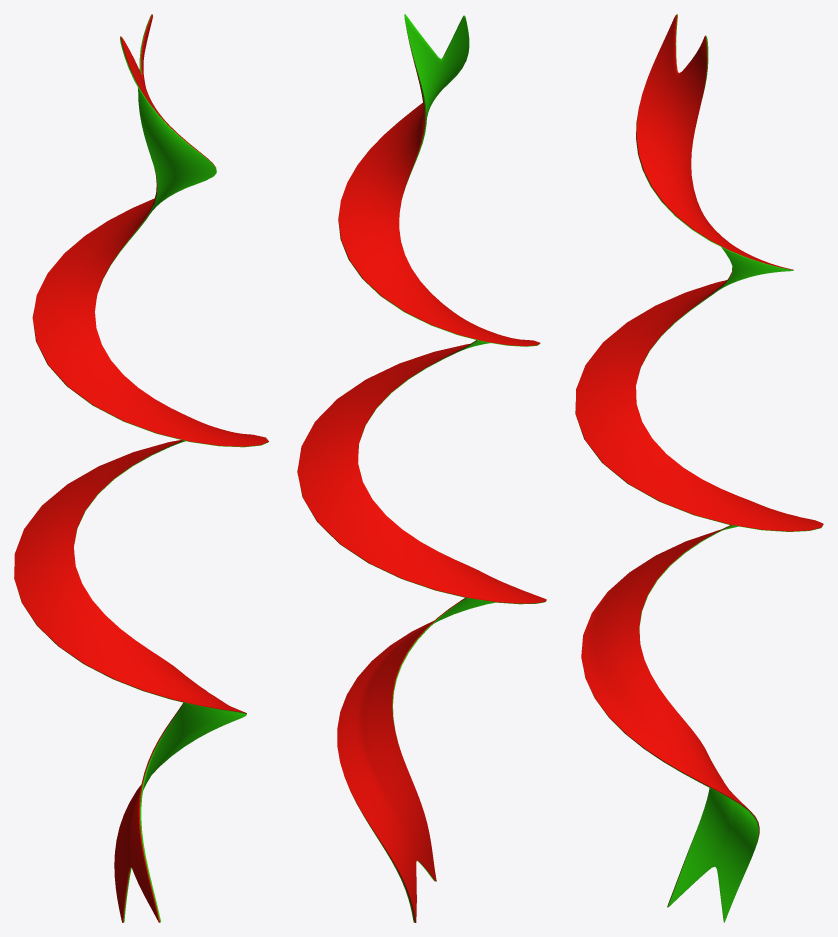
The model's file is Ribbon_Idle.gltf.
The picture shows the model from 3 angles, left to right: view 1: azimuth 30°, elevation 25°; view 2: azimuth 150°, elevation 25°; view 3: azimuth 270°, elevation 25°; orthographic projection.
Visible parts, largest first — view 1: Ribbon; view 2: Ribbon; view 3: Ribbon.
Boxes of the visible parts, <box> form: Ribbon: <box>14,14,268,922</box>; Ribbon: <box>297,14,546,922</box>; Ribbon: <box>575,14,823,922</box>.
Size of the model in its own units: 4.07 by 16.07 by 4.03.
